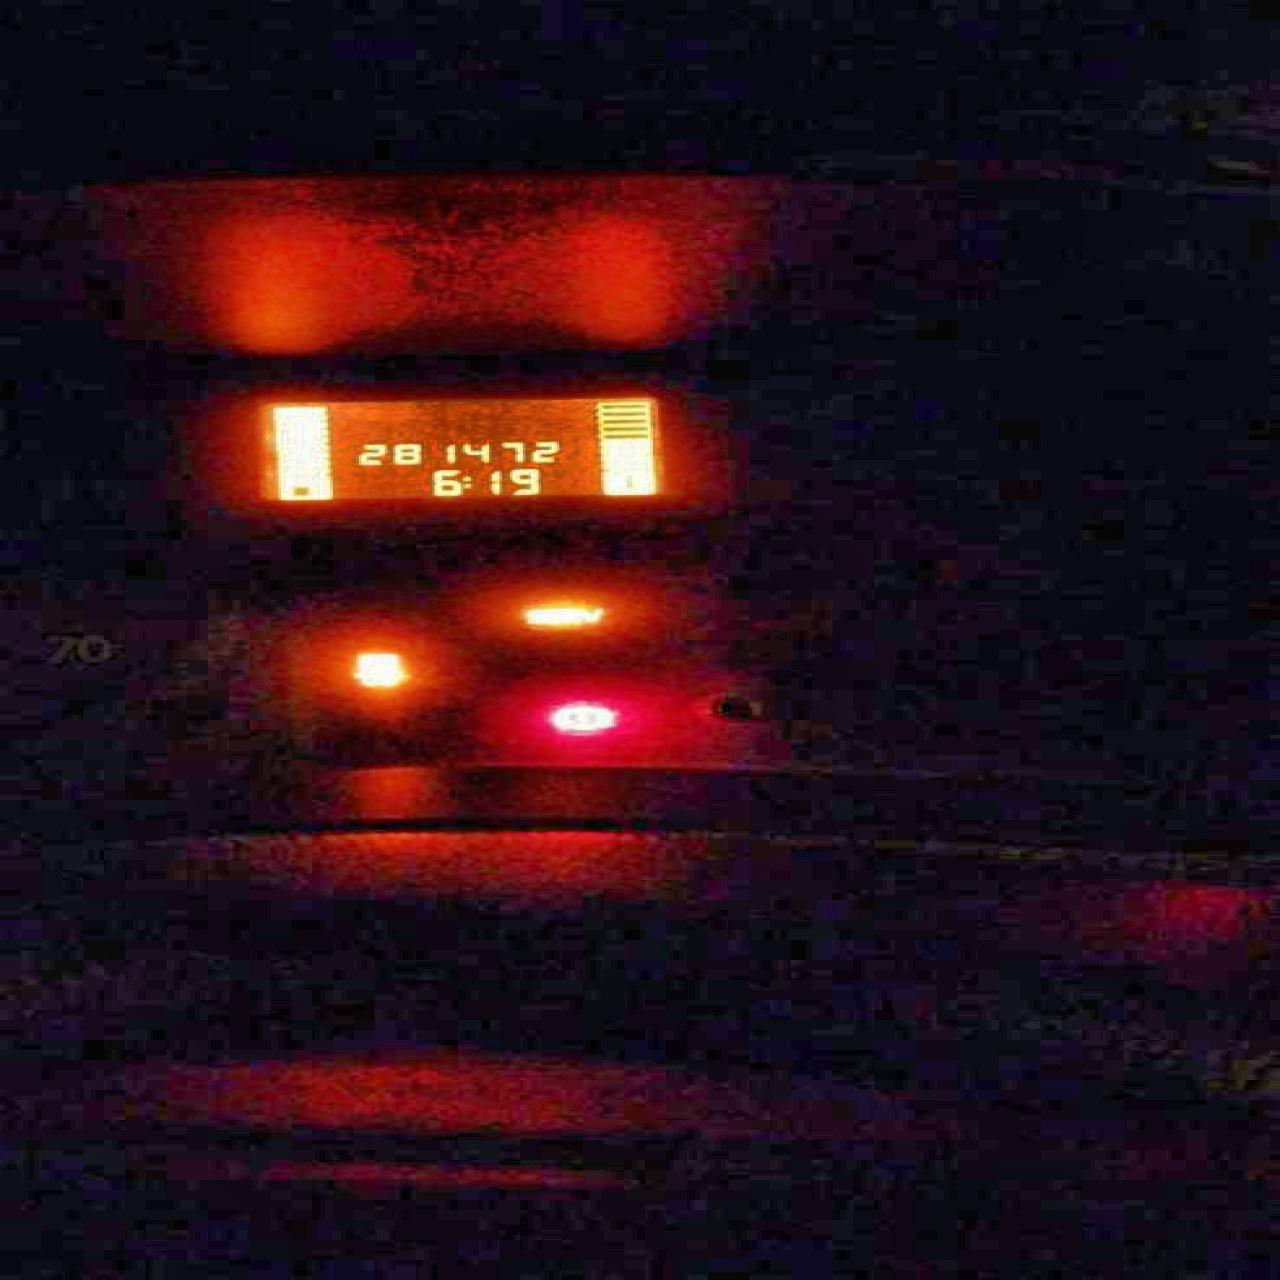1: (484, 468, 502, 495), (437, 443, 458, 463)
2: (525, 438, 559, 463), (354, 441, 384, 465)
4: (458, 442, 489, 463)
6: (424, 467, 461, 496)
7: (497, 440, 525, 462)
8: (388, 441, 424, 465)
9: (502, 467, 539, 496)
X: (461, 474, 474, 489)
odometer: (241, 392, 672, 504)
